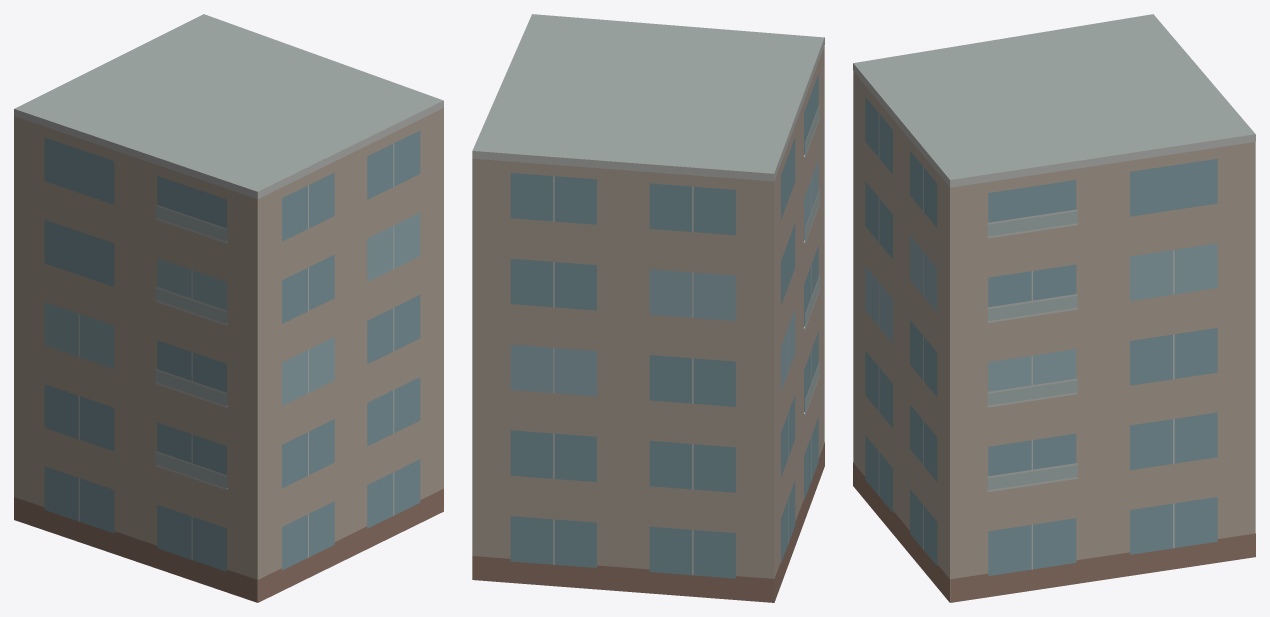
The model's file is survey-upis-32533416.glb.
The picture shows the model from 3 angles, left to right: view 1: azimuth 30°, elevation 25°; view 2: azimuth 150°, elevation 25°; view 3: azimuth 270°, elevation 25°; orthographic projection. The views are drawn at different scales.
Parts seen in each view (by area): view 1: survey-upis-32533416.tmp; view 2: survey-upis-32533416.tmp; view 3: survey-upis-32533416.tmp.
Part boxes in pixels (bbox=[...]): survey-upis-32533416.tmp: bbox=[14, 14, 443, 602]; survey-upis-32533416.tmp: bbox=[472, 14, 824, 602]; survey-upis-32533416.tmp: bbox=[853, 14, 1255, 602].
Size of the model in its own units: 11.47 by 13.6 by 11.75.
